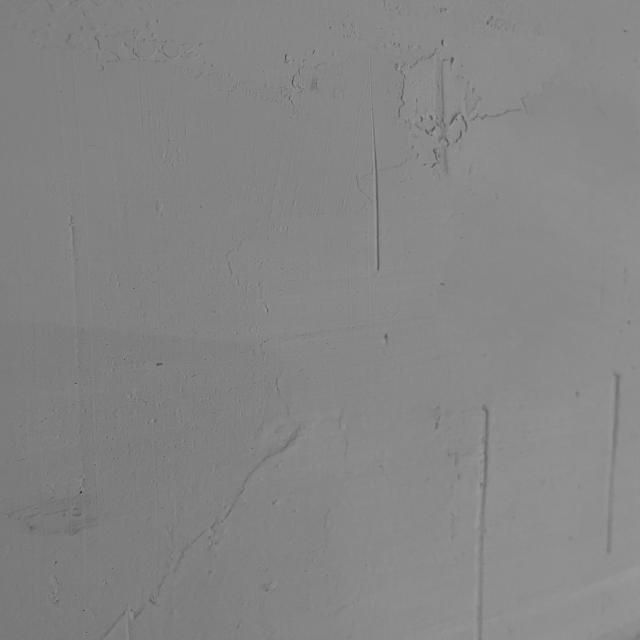rough and patchy surface: (81, 377, 367, 629), (234, 34, 532, 209), (430, 382, 527, 640), (27, 0, 224, 96), (11, 489, 86, 548)
